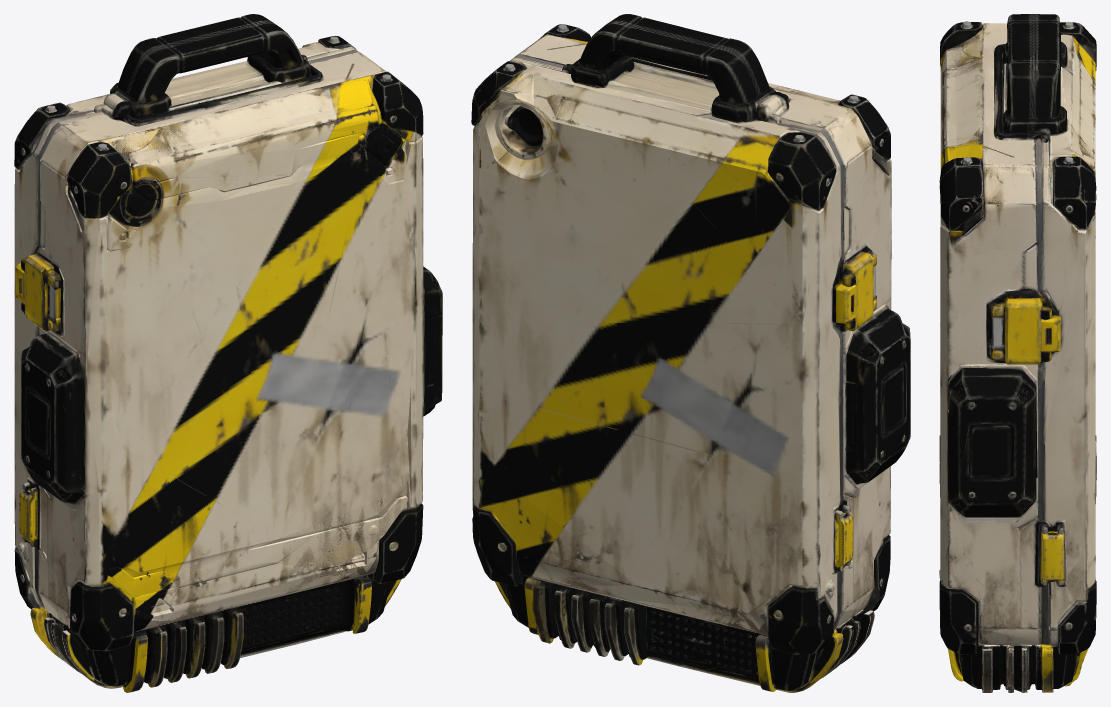
File: pack_main_character.glb
3 renders of one model, left to right at view 1: azimuth 30°, elevation 25°; view 2: azimuth 150°, elevation 25°; view 3: azimuth 270°, elevation 25°, orthographic. The views are drawn at different scales.
Bounding box in the file's own units: 1.28 × 1.9 × 0.4586.
Materials: 1 (1 with a texture image).
